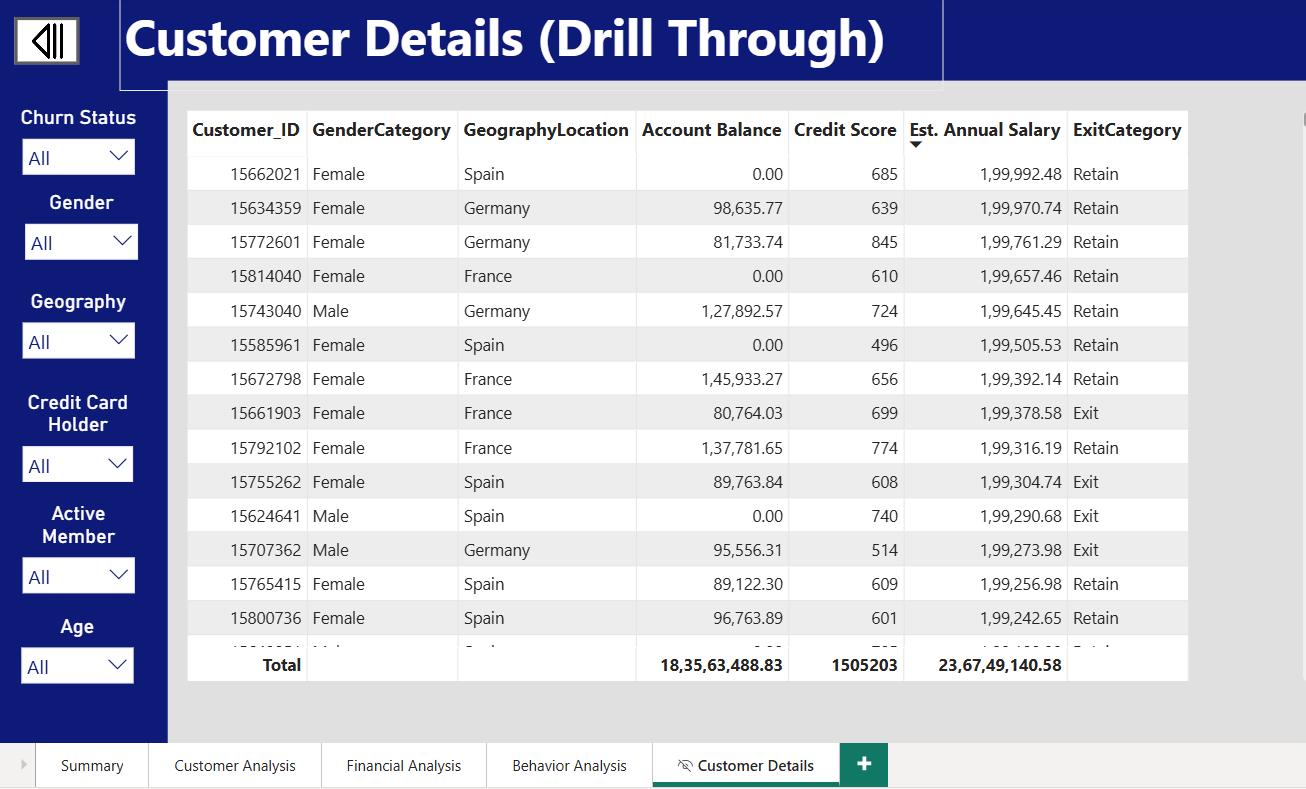

The dashboard page shown, as its layout file describes it:
{"tool":"powerbi","page":{"name":"Customer Details","canvas":[1280,720],"ordinal":4},"visuals":[{"type":"tableEx","fields":{"Values":["Bank_Churn.Customer_ID","Gender.GenderCategory","Geography.GeographyLocation","Sum(Bank_Churn.Balance)","Sum(Bank_Churn.CreditScore)","Sum(Bank_Churn.EstimatedSalary)","ExitCustomer.ExitCategory"]},"box":[182.5,105,1097.5,560],"z":0},{"type":"shape","box":[0,73,169.7,647],"z":1000},{"type":"shape","box":[0,0,1280,80.7],"z":2000},{"type":"slicer","title":"Gender","fields":{"Values":["Gender.GenderCategory"]},"box":[21.1,187.3,129.6,95.8],"z":3000},{"type":"slicer","title":"Active Member","fields":{"Values":["ActiveCustomer.ActiveCategory"]},"box":[19.6,487.9,128.4,97.8],"z":4000},{"type":"slicer","title":"Geography","fields":{"Values":["Geography.GeographyLocation"]},"box":[19.6,282.5,128.4,97.8],"z":5000},{"type":"slicer","title":"Credit Card Holder","fields":{"Values":["CreditCard.Category"]},"box":[19.6,380.3,127.2,107.6],"z":6000},{"type":"textbox","box":[123.5,0,794.8,90.5],"z":7000},{"type":"actionButton","box":[22.3,19.5,62.6,45.9],"z":8000},{"type":"slicer","title":"Churn Status","fields":{"Values":["ExitCustomer.ExitCategory"]},"box":[19.6,105.2,128.4,95.4],"z":9000},{"type":"slicer","title":"Age","fields":{"Values":["Bank_Churn.Age"]},"box":[18.3,595.5,128.4,81.9],"z":10000}]}

Visuals, with their boxes on the page's 1280x720 design canvas (x1, y1, x2, y2). These are canvas units, not pixel positions in the 1306x789 screenshot, which may show the page scaled, cropped or inside an application window:
tableEx - Bank_Churn.Customer_ID x Gender.GenderCategory: x1=182, y1=105, x2=1280, y2=665
shape: x1=0, y1=73, x2=170, y2=720
shape: x1=0, y1=0, x2=1280, y2=81
"Gender" slicer: x1=21, y1=187, x2=151, y2=283
"Active Member" slicer: x1=20, y1=488, x2=148, y2=586
"Geography" slicer: x1=20, y1=282, x2=148, y2=380
"Credit Card Holder" slicer: x1=20, y1=380, x2=147, y2=488
textbox: x1=124, y1=0, x2=918, y2=90
actionButton: x1=22, y1=20, x2=85, y2=65
"Churn Status" slicer: x1=20, y1=105, x2=148, y2=201
"Age" slicer: x1=18, y1=596, x2=147, y2=677
